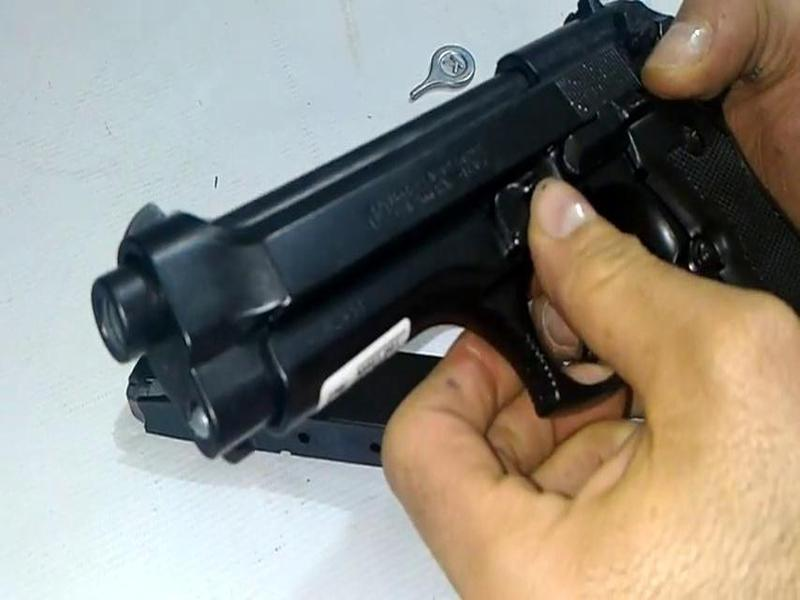Pistola: (61, 5, 800, 510)
